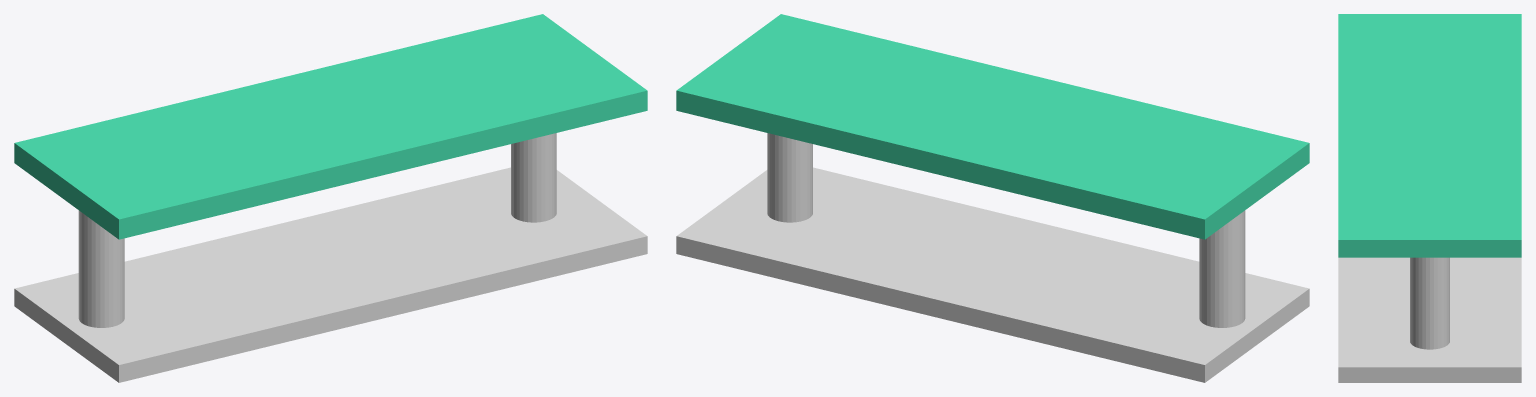
The model's file is wingCollectable.fbx.
The picture shows the model from 3 angles, left to right: view 1: azimuth 30°, elevation 25°; view 2: azimuth 150°, elevation 25°; view 3: azimuth 270°, elevation 25°; orthographic projection. The views are drawn at different scales.
Parts seen in each view (by area): view 1: Cylinder.001; view 2: Cylinder.001; view 3: Cylinder.001.
Boxes of the visible parts, x1,y1,x2,y2 form: Cylinder.001: (14, 14, 647, 382); Cylinder.001: (676, 14, 1309, 382); Cylinder.001: (1338, 14, 1521, 382).
Size of the model in its own units: 332 by 98.17 by 114.
